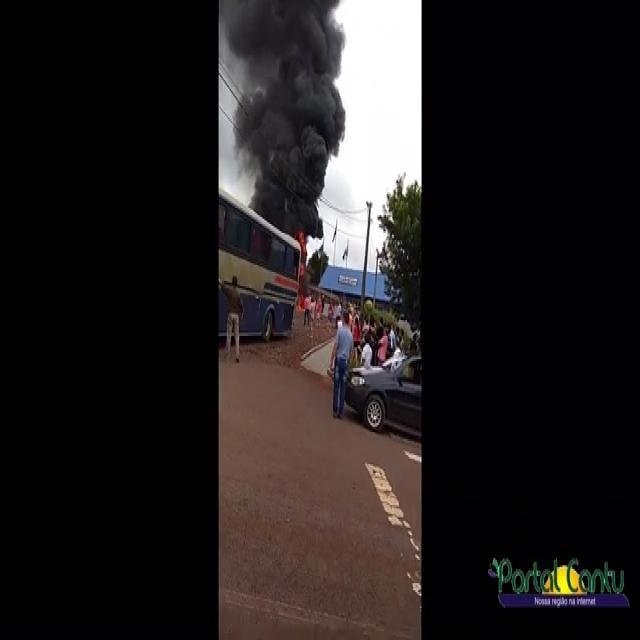Fire: (298, 236, 306, 317)
Smoke: (227, 4, 343, 232)
